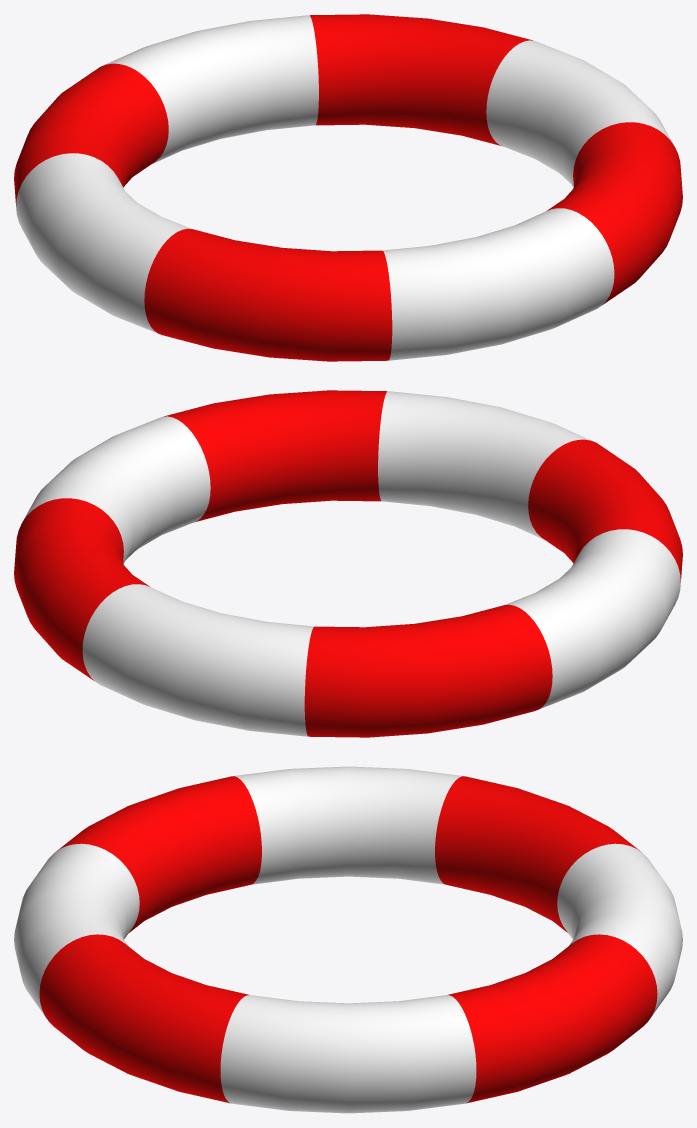
Rendered from rueda.gltf.
3 renders of one model, top to bottom at view 1: azimuth 30°, elevation 25°; view 2: azimuth 150°, elevation 25°; view 3: azimuth 270°, elevation 25°, orthographic.
Visible parts, largest first — view 1: pTorus1.001, pTorus1; view 2: pTorus1.001, pTorus1; view 3: pTorus1, pTorus1.001.
Part boxes in pixels (bbox=[...]): pTorus1.001: bbox=[16, 15, 673, 360]; pTorus1: bbox=[14, 14, 682, 361]; pTorus1.001: bbox=[23, 391, 680, 736]; pTorus1: bbox=[14, 390, 682, 737]; pTorus1: bbox=[39, 776, 657, 1103]; pTorus1.001: bbox=[14, 766, 682, 1113].
Size of the model in its own units: 191 by 31.61 by 191.
